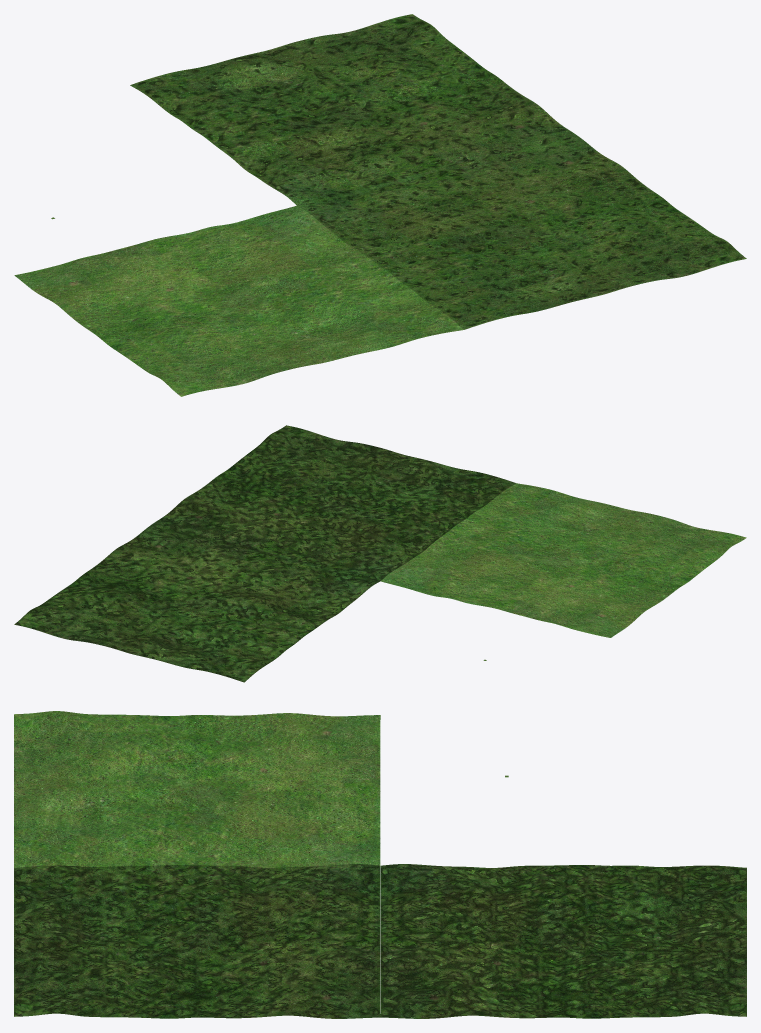
The model's file is grass.obj.
3 renders of one model, top to bottom at view 1: azimuth 30°, elevation 25°; view 2: azimuth 150°, elevation 25°; view 3: azimuth 270°, elevation 25°, orthographic. The views are drawn at different scales.
Visible parts, largest first — view 1: 1, 3, 4; view 2: 3, 4, 1; view 3: 4, 1, 3.
Boxes of the visible parts, x1,y1,x2,y2 form: 1: [130, 14, 579, 205]; 3: [297, 137, 746, 329]; 4: [14, 205, 463, 396]; 3: [150, 425, 516, 581]; 4: [381, 483, 746, 637]; 1: [14, 525, 379, 682]; 4: [14, 711, 380, 867]; 1: [380, 864, 746, 1018]; 3: [14, 864, 380, 1018].
Size of the model in its own units: 554 by 11.74 by 567.
Materials: 1 (1 with a texture image).
